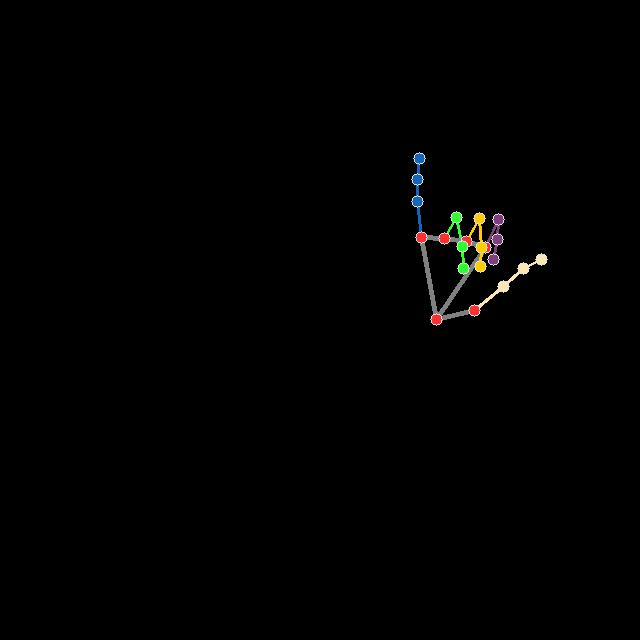skr: (408, 150, 548, 326)
